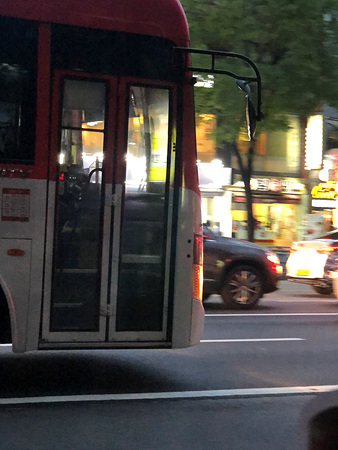entrance: (45, 71, 174, 340)
